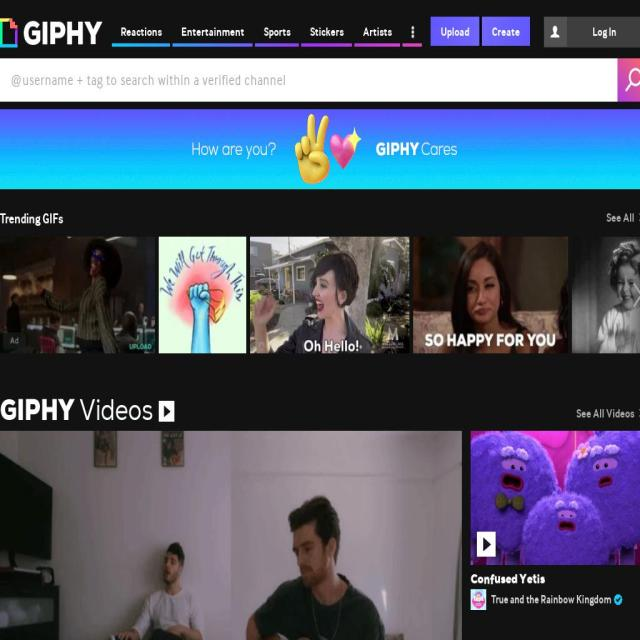button: (470, 431, 640, 566), (0, 395, 174, 426), (470, 589, 622, 611), (0, 18, 103, 48), (544, 16, 640, 48), (431, 16, 482, 46), (482, 16, 530, 46), (617, 58, 640, 101)
field: (0, 58, 618, 102)
heading: (470, 569, 640, 590), (0, 210, 63, 227), (576, 406, 634, 421), (606, 210, 634, 225)
image: (0, 431, 462, 640), (0, 109, 640, 189), (470, 431, 640, 566), (250, 237, 409, 353), (0, 237, 155, 353), (413, 237, 568, 353), (159, 237, 246, 353), (572, 237, 640, 353), (0, 18, 102, 47), (617, 58, 640, 101), (624, 58, 640, 102), (476, 532, 496, 558), (3, 333, 26, 349), (471, 589, 486, 611), (159, 401, 174, 422), (633, 282, 640, 308), (614, 593, 622, 606)
link: (172, 16, 252, 46), (112, 16, 170, 46), (301, 16, 352, 46), (354, 16, 400, 46), (255, 16, 299, 46)
text: (10, 60, 618, 102), (10, 18, 618, 59), (10, 103, 618, 144), (74, 392, 159, 429), (0, 390, 74, 430), (491, 592, 611, 608), (440, 23, 470, 39), (492, 23, 520, 39), (592, 25, 616, 39)
